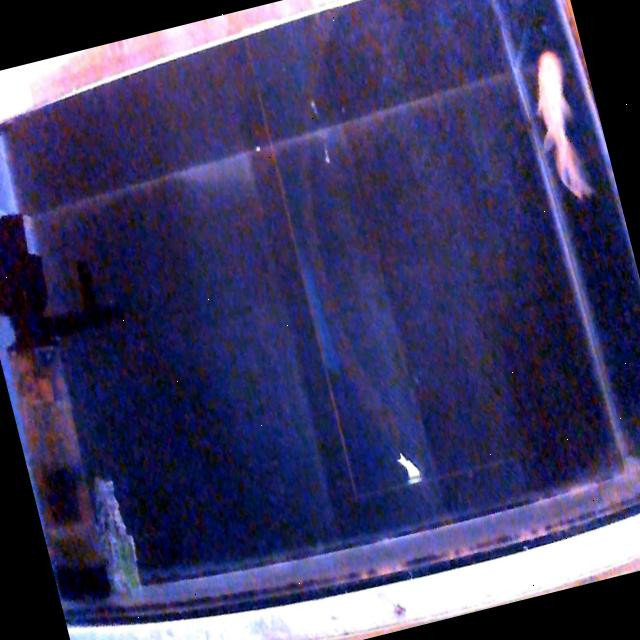fish: (520, 46, 598, 208)
